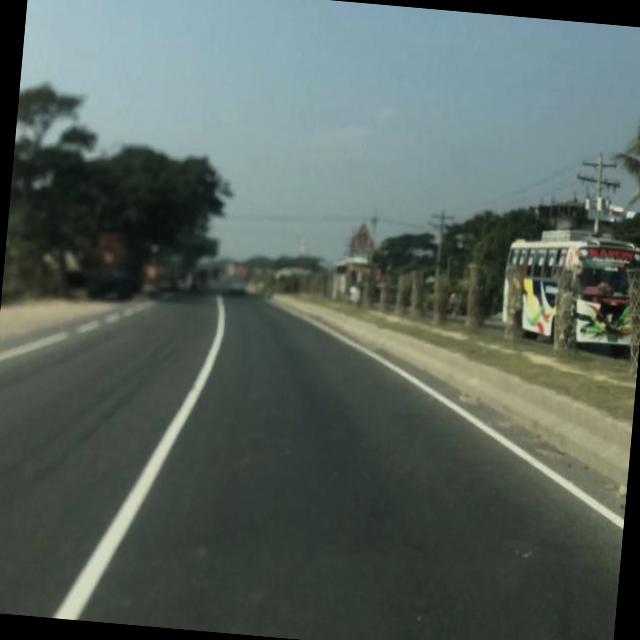bus: (494, 221, 640, 357)
